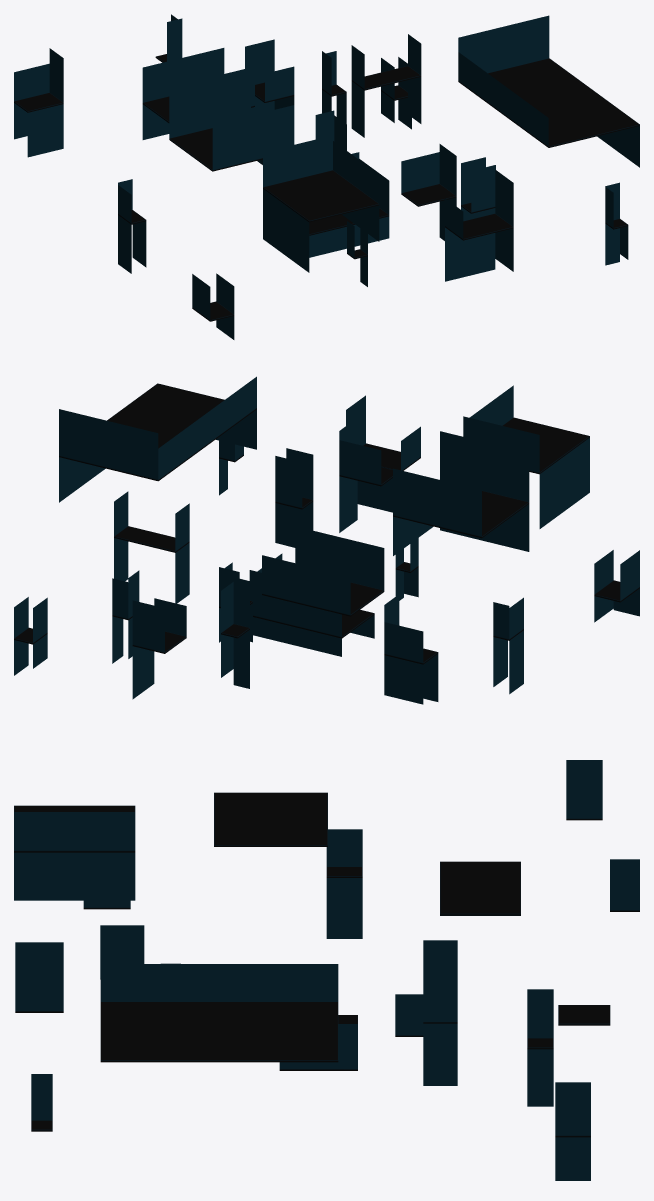
File: far_floor.glb
3 renders of one model, top to bottom at view 1: azimuth 30°, elevation 25°; view 2: azimuth 150°, elevation 25°; view 3: azimuth 270°, elevation 25°, orthographic. The views are drawn at different scales.
Parts seen in each view (by area): view 1: far_floor_skirt, tiles; view 2: far_floor_skirt, tiles; view 3: far_floor_skirt, tiles.
Boxes of the visible parts, x1,y1,x2,y2 form: far_floor_skirt: (14,14,639,339); tiles: (14,54,639,321); far_floor_skirt: (14,376,639,704); tiles: (14,383,639,664); far_floor_skirt: (14,760,639,1180); tiles: (14,792,639,1137).
Bounding box in the file's own units: 9.93 × 3.93 × 9.4.
